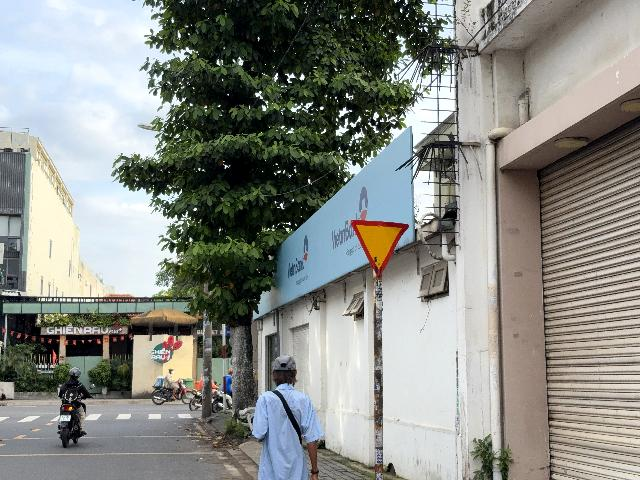giao-nhau-voi-duong-uu-tien: (350, 220, 410, 277)
